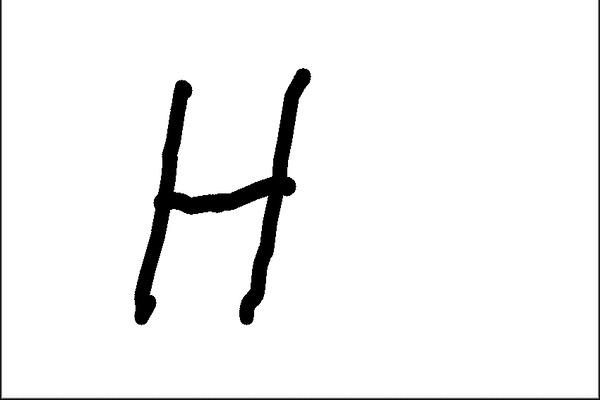H: (127, 62, 319, 335)
